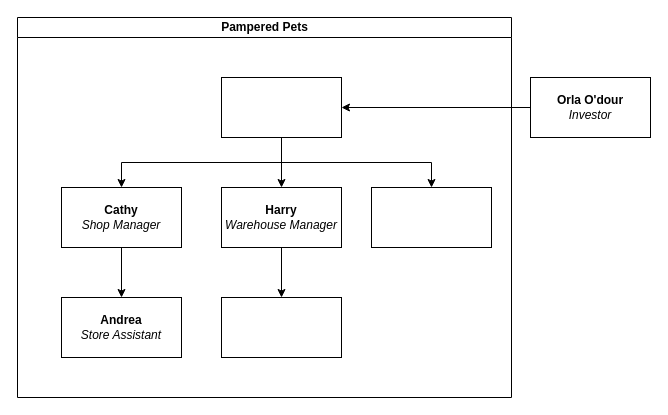
The diagram is 668 pixels wide and 415 high, and some of its shapes have lost their labels. The centre of each missing label's shape, as x and y in pixels:
Alice Owner / Manager: (281,107)
New IT/e-commerce Manager: (431,217)
New Warehouse Assistant: (281,327)
